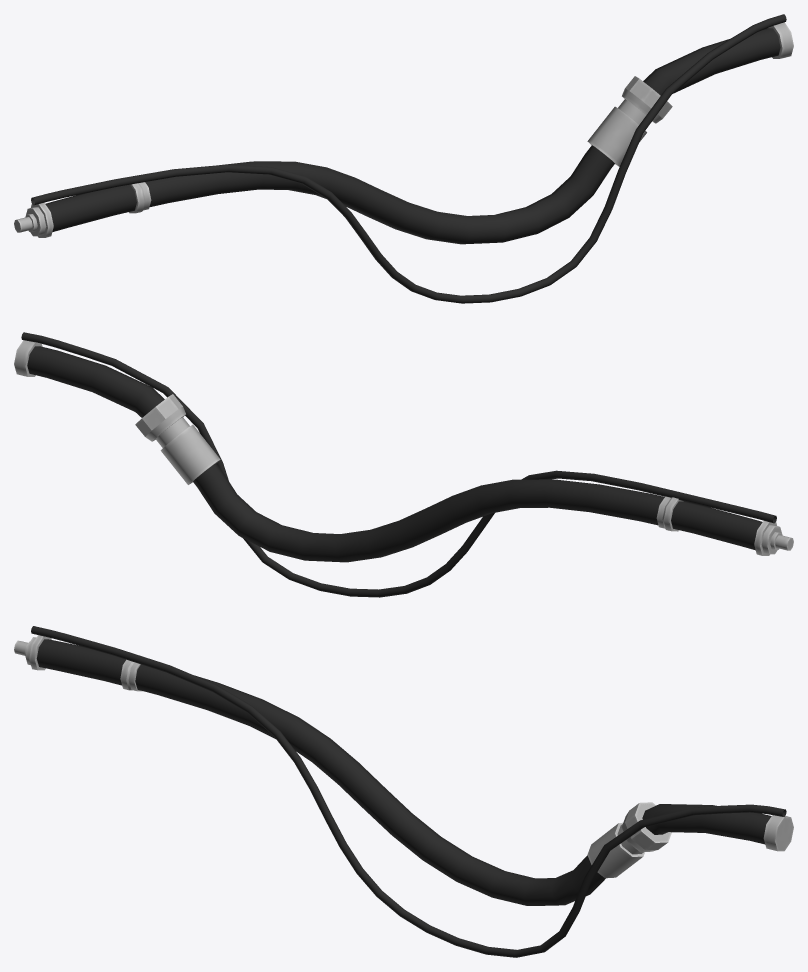
The model's file is ElectricalWires03_05.glb.
The picture shows the model from 3 angles, top to bottom: view 1: azimuth 30°, elevation 25°; view 2: azimuth 150°, elevation 25°; view 3: azimuth 330°, elevation 25°; orthographic projection.
Visible parts, largest first — view 1: NurbsPath_028; view 2: NurbsPath_028; view 3: NurbsPath_028.
Part boxes in pixels (<box>): NurbsPath_028: <box>14,14,793,303</box>; NurbsPath_028: <box>14,332,793,597</box>; NurbsPath_028: <box>14,626,793,957</box>.
Size of the model in its own units: 3.63 by 0.9122 by 0.2625.
Materials: 1 (1 with a texture image).
